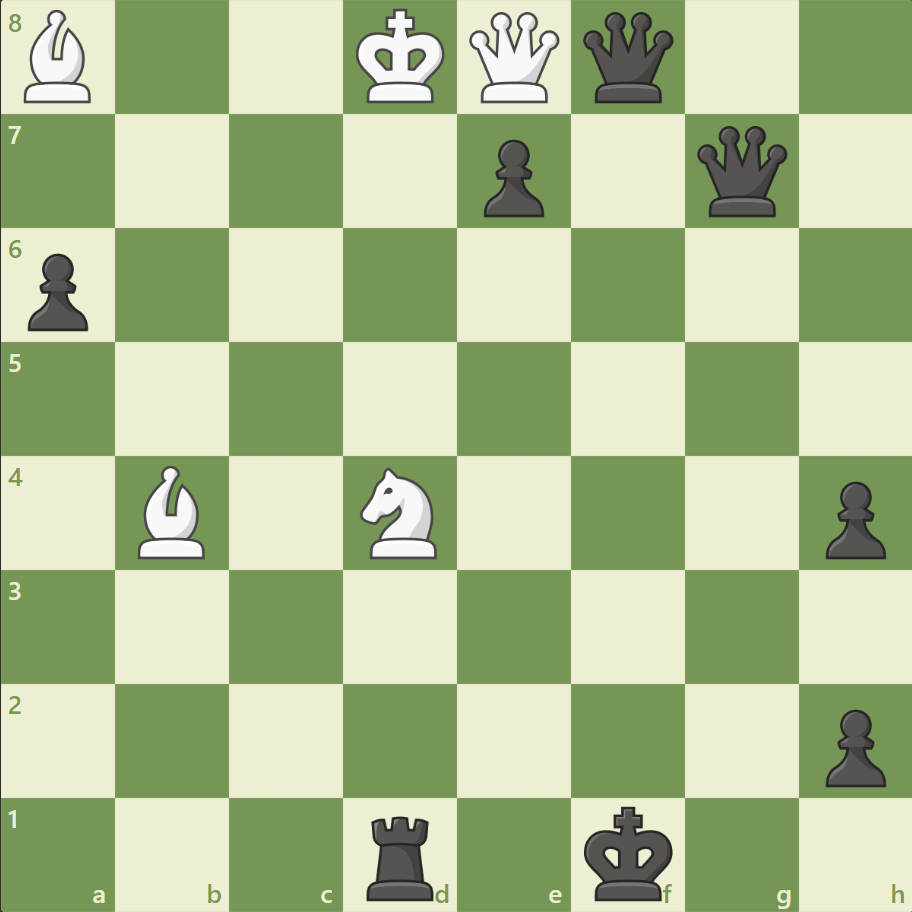B: (17, 6, 101, 109), (131, 460, 215, 563)
K: (351, 4, 451, 112)
N: (351, 461, 449, 564)
Q: (464, 9, 563, 108)
k: (579, 798, 679, 906)
p: (474, 132, 549, 223), (20, 246, 95, 337), (815, 473, 889, 564), (815, 700, 889, 791)
q: (691, 122, 790, 222), (578, 9, 677, 108)
r: (360, 806, 442, 904)
